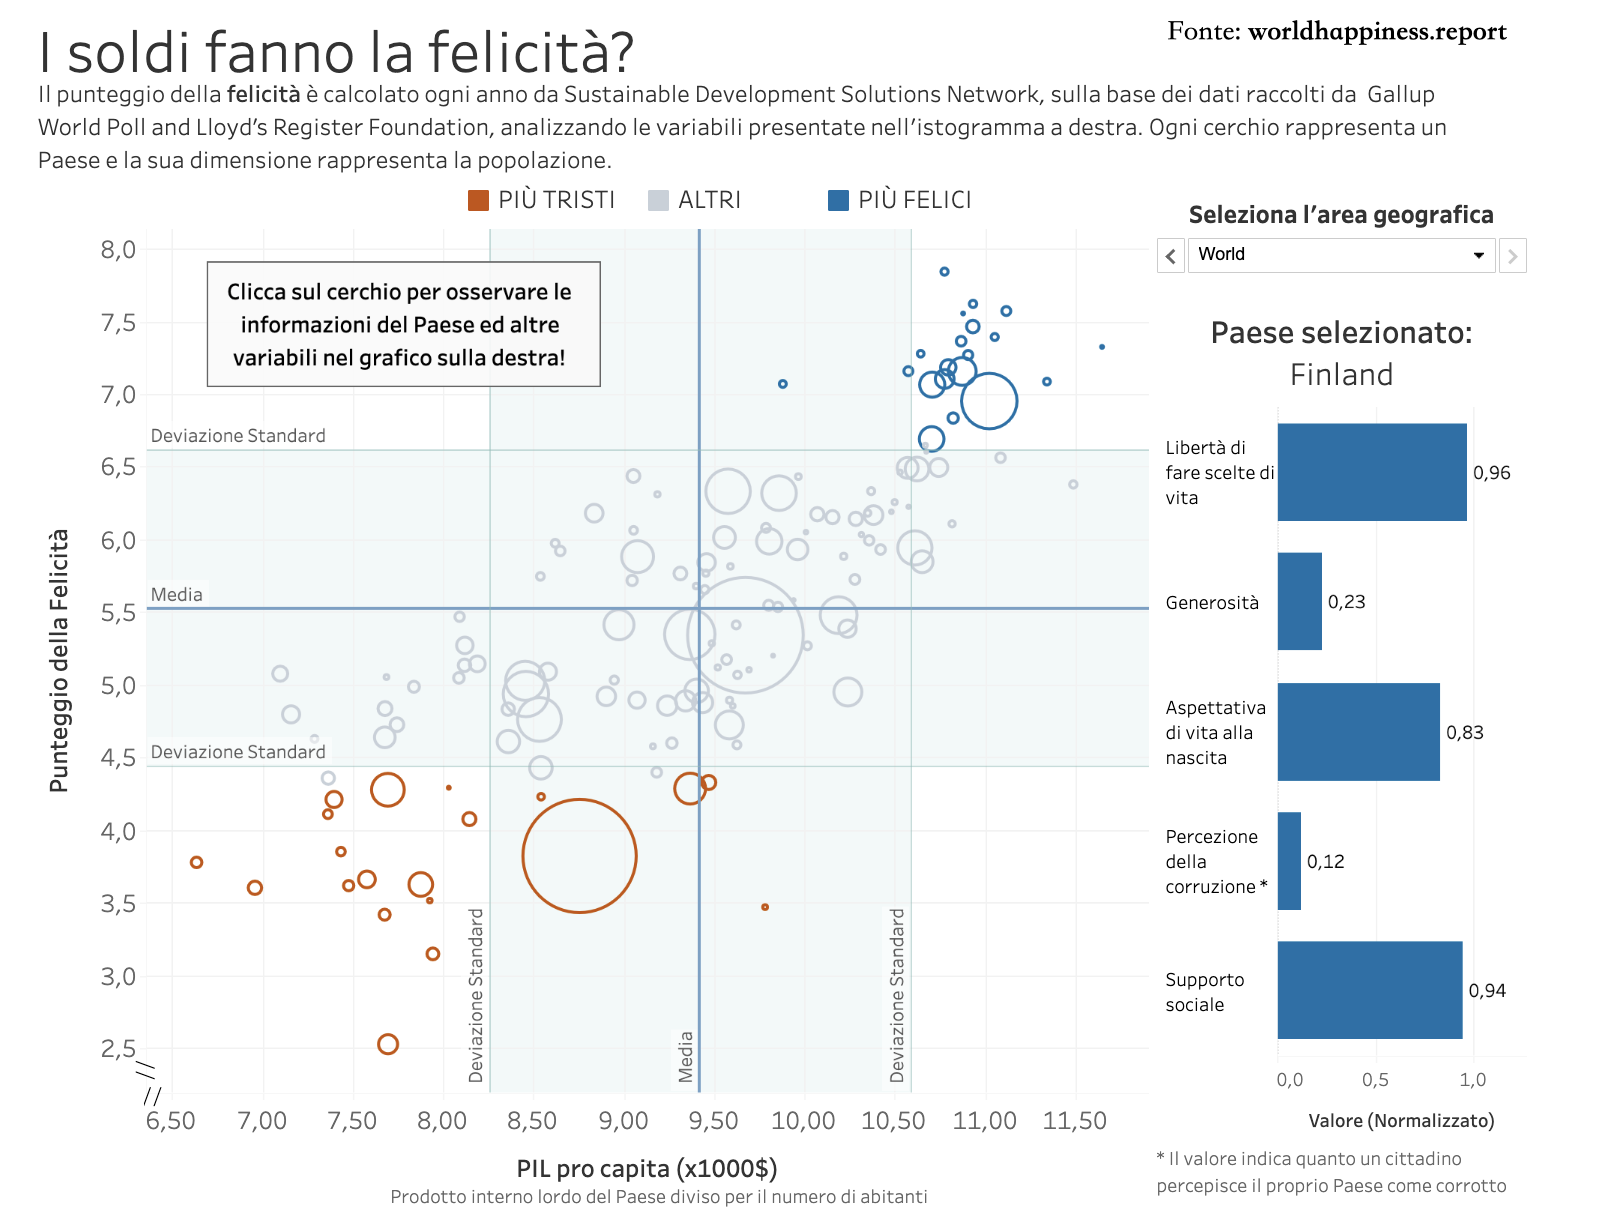

This screenshot's page, from the dashboard's own definition file:
{"tool":"tableau","page":{"name":"Dashboard 1","canvas":[1000,800],"ordinal":0},"visuals":[{"type":"worksheet","title":"PIL E FELICITA","mark":"Automatic","rows":["Ladder score"],"cols":["Logged GDP per capita"],"box":[0,1,746,794]},{"type":"text","box":[5,50,941,67]},{"type":"legend","title":"PIL E FELICITA","param":"[federated.0grs2by17bjg0w1flmxxg0bvuvyg].[none:target (df_happy_World.csv):nk]","box":[287,97,424,58]},{"type":"currpage","title":"PIL E FELICITA","box":[749,131,251,69]},{"type":"worksheet","title":"Foglio 2","mark":"Automatic","box":[751,200,247,560]},{"type":"text","box":[38,690,75,53]},{"type":"text","box":[69,692,108,42]},{"type":"text","box":[76,708,108,42]},{"type":"text","box":[59,726,108,42]}]}

Visuals, with their boxes on the page's 1000x800 design canvas (x1, y1, x2, y2). These are canvas units, not pixel positions in the 1598x1220 screenshot, which may show the page scaled, cropped or inside an application window:
"PIL E FELICITA" worksheet: l=0, t=1, r=746, b=795
text: l=5, t=50, r=946, b=117
"PIL E FELICITA" legend: l=287, t=97, r=711, b=155
"PIL E FELICITA" currpage: l=749, t=131, r=1000, b=200
"Foglio 2" worksheet: l=751, t=200, r=998, b=760
text: l=38, t=690, r=113, b=743
text: l=69, t=692, r=177, b=734
text: l=76, t=708, r=184, b=750
text: l=59, t=726, r=167, b=768
